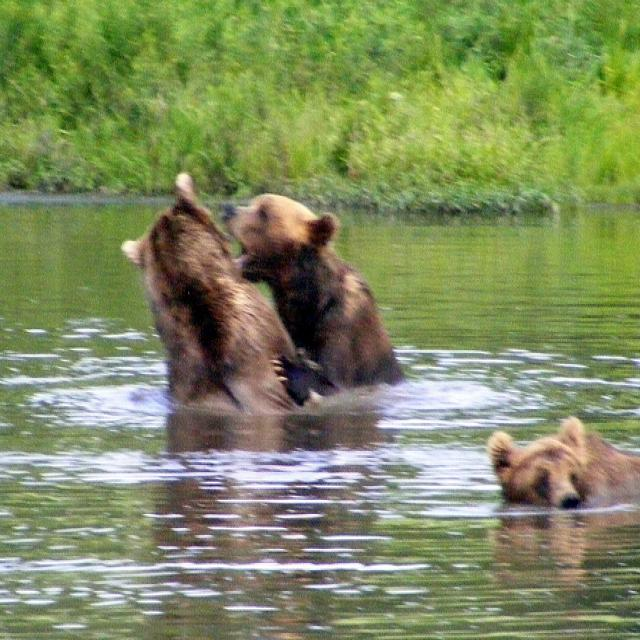Bear: (122, 169, 316, 447), (460, 395, 640, 542)
